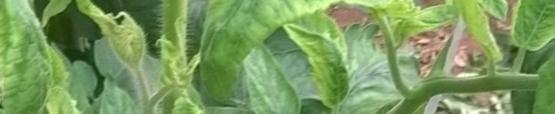Tomato leaf yellow virus: (197, 0, 359, 100), (0, 0, 62, 114)
